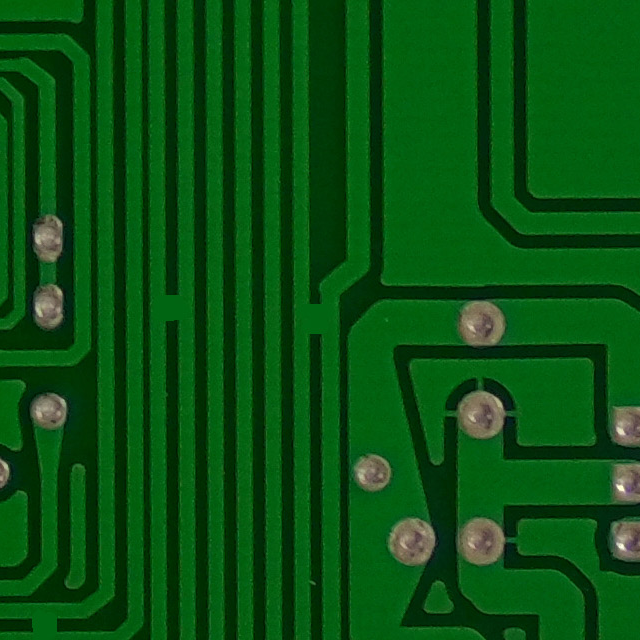short: (140, 276, 201, 337), (286, 293, 354, 347), (6, 596, 84, 640)
